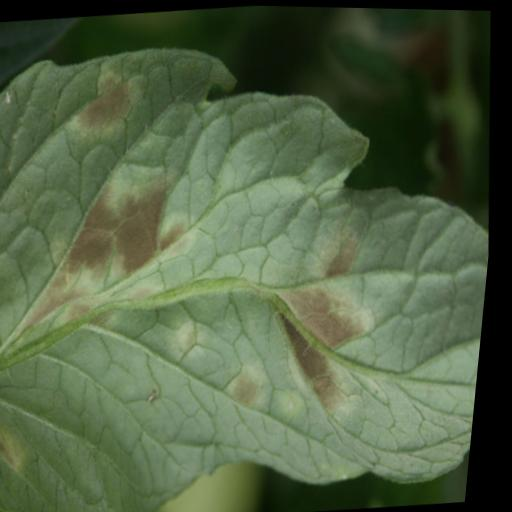Leaf Mold: (0, 12, 511, 512)
